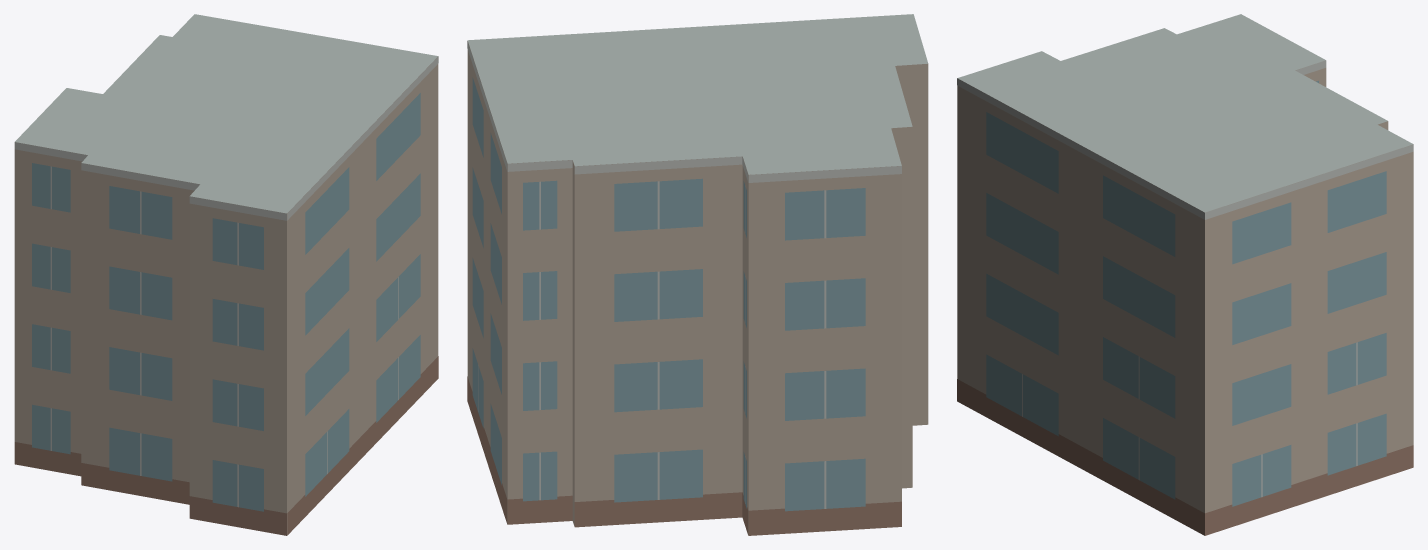
Rendered from survey-upis-32690952.glb.
The picture shows the model from 3 angles, left to right: view 1: azimuth 30°, elevation 25°; view 2: azimuth 150°, elevation 25°; view 3: azimuth 270°, elevation 25°; orthographic projection. The views are drawn at different scales.
Parts seen in each view (by area): view 1: survey-upis-32690952.tmp; view 2: survey-upis-32690952.tmp; view 3: survey-upis-32690952.tmp.
Boxes of the visible parts, x1=… form: survey-upis-32690952.tmp: x1=14, y1=14, x2=438, y2=535; survey-upis-32690952.tmp: x1=467, y1=14, x2=928, y2=535; survey-upis-32690952.tmp: x1=957, y1=14, x2=1413, y2=535.
Size of the model in its own units: 14.11 by 10.7 by 13.7.
